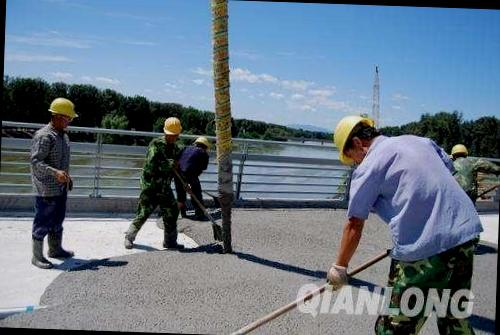helmet: (328, 110, 377, 166), (46, 95, 80, 118), (161, 116, 184, 138)
no_vest: (342, 153, 478, 253), (33, 126, 71, 196), (143, 138, 178, 194)
person: (319, 106, 485, 335), (30, 90, 80, 265), (137, 113, 188, 248)
